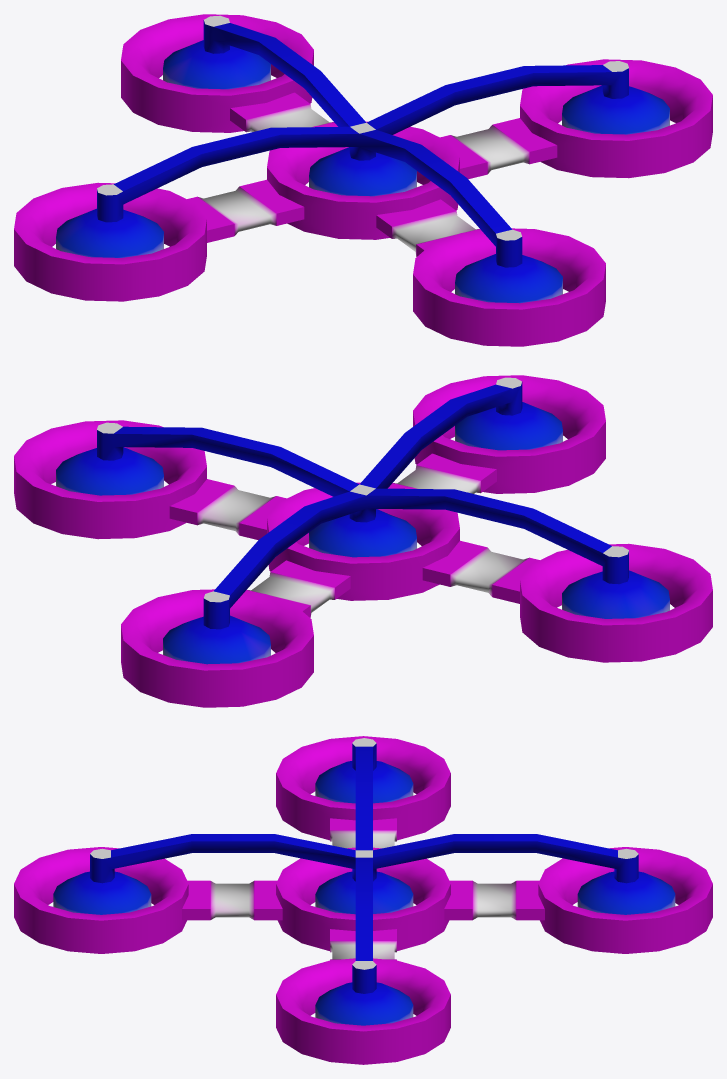
The model's file is YG Shooter Spinner w bomb.fbx.
3 views of the same model, one above another, from view 1: azimuth 30°, elevation 25°; view 2: azimuth 150°, elevation 25°; view 3: azimuth 270°, elevation 25° (orthographic). The views are drawn at different scales.
Visible parts, largest first — view 1: Spinner, Bomb; view 2: Spinner, Bomb; view 3: Spinner, Bomb.
Part boxes in pixels (left/top/right/bottom): Spinner: left=14, top=14, right=712, bottom=346; Bomb: left=56, top=15, right=669, bottom=303; Spinner: left=14, top=375, right=712, bottom=707; Bomb: left=56, top=377, right=669, bottom=664; Spinner: left=14, top=736, right=712, bottom=1064; Bomb: left=53, top=738, right=675, bottom=1025.
Size of the model in its own units: 1 by 0.1258 by 1.
